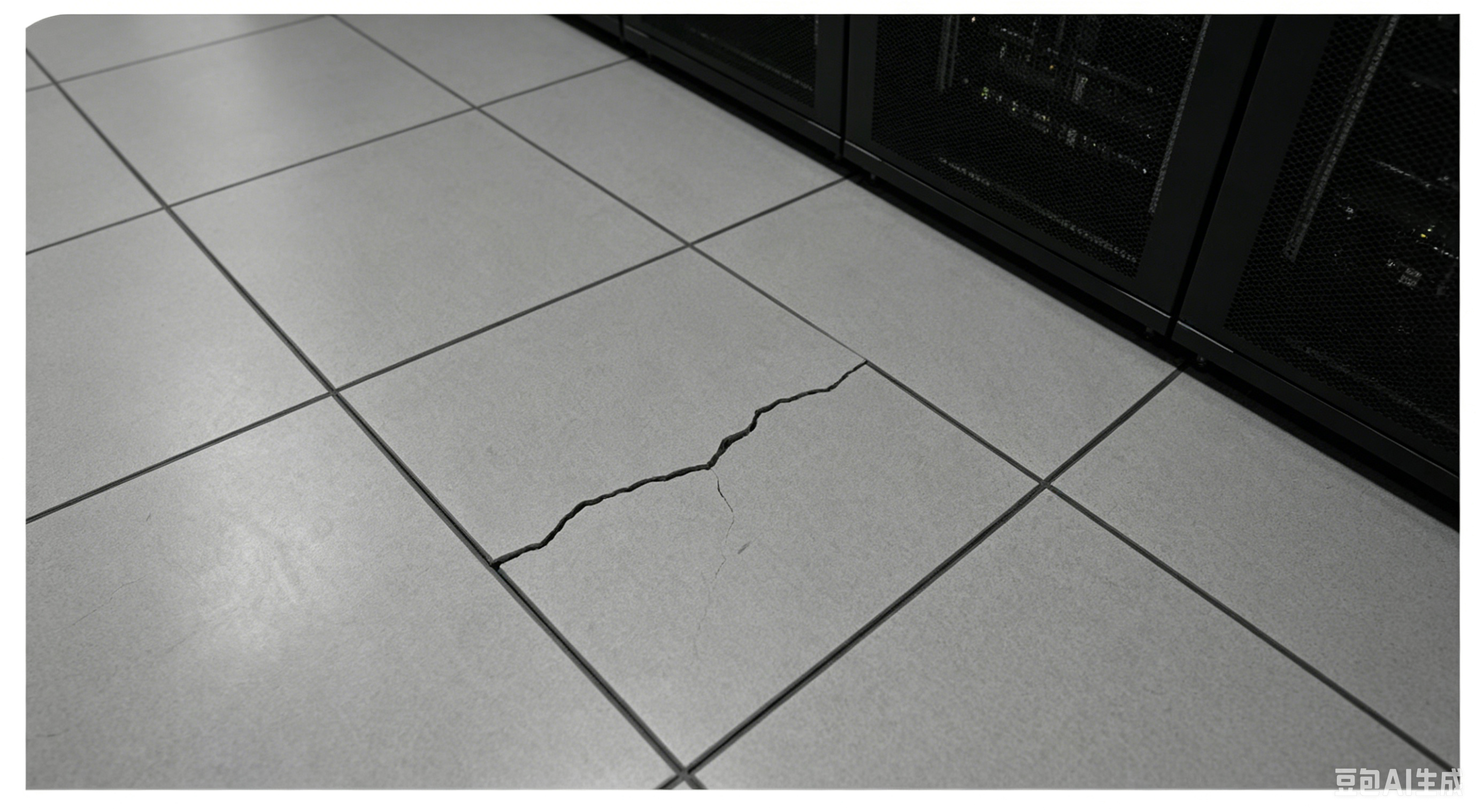floor_defect: (625, 328, 884, 491), (437, 482, 755, 578)
